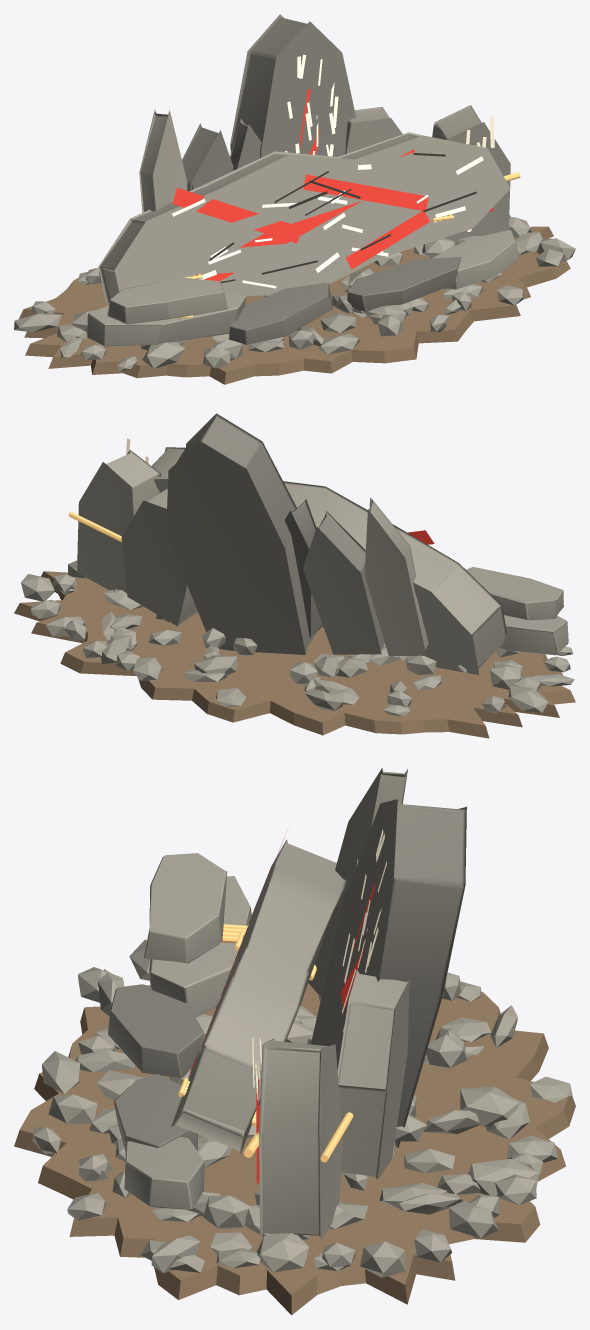
File: SM_GIA_BloodAxeCairnSlabCluster_A01_SculptedMidpolyV4.fbx
3 renders of one model, top to bottom at view 1: azimuth 30°, elevation 25°; view 2: azimuth 150°, elevation 25°; view 3: azimuth 270°, elevation 25°, orthographic. The views are drawn at different scales.
Parts seen in each view (by area): view 1: A1_Sculpted_MainPaintedFallenSlab_LOD0, A1_Sculpted_AshMudBase_LOD0, A1_Sculpted_RearTallBrokenSlab_LOD0, A1_Sculpted_LeftStackTopSlab_LOD0, A1_Sculpted_LeftStackLowSlab_LOD0, A1_Sculpted_FrontBrokenSupportStone0_LOD0, A1_Sculpted_FrontBrokenSupportStone1_LOD0, A1_Sculpted_BackLeftThinBlade_LOD0, A1_Sculpted_RightBoundUpright_LOD0, A1_Sculpted_RightFrontRubbleSlab_LOD0, A1_Sculpted_LeftRearShard_LOD0, A1_Sculpted_MainRedCrossB_LOD0 (+12 smaller); view 2: A1_Sculpted_AshMudBase_LOD0, A1_Sculpted_RearTallBrokenSlab_LOD0, A1_Sculpted_MainPaintedFallenSlab_LOD0, A1_Sculpted_LeftRearShard_LOD0, A1_Sculpted_RightBoundUpright_LOD0, A1_Sculpted_BackLeftThinBlade_LOD0, A1_Sculpted_BackRightShoulderStone_LOD0, A1_Sculpted_LeftStackTopSlab_LOD0, A1_Sculpted_LeftStackLowSlab_LOD0, A1_Sculpted_CenterNeedleShard_LOD0, A1_Sculpted_Rubble_04_LOD0, A1_Sculpted_Rubble_105_LOD0 (+13 smaller); view 3: A1_Sculpted_AshMudBase_LOD0, A1_Sculpted_RearTallBrokenSlab_LOD0, A1_Sculpted_MainPaintedFallenSlab_LOD0, A1_Sculpted_RightBoundUpright_LOD0, A1_Sculpted_BackRightShoulderStone_LOD0, A1_Sculpted_LeftStackTopSlab_LOD0, A1_Sculpted_FrontBrokenSupportStone0_LOD0, A1_Sculpted_LeftStackLowSlab_LOD0, A1_Sculpted_RightFrontRubbleSlab_LOD0, A1_Sculpted_FrontBrokenSupportStone1_LOD0, A1_Sculpted_BackLeftThinBlade_LOD0, A1_Sculpted_Rubble_11_LOD0 (+27 smaller).
Part boxes in pixels (x1,y1,x2,y2): A1_Sculpted_MainPaintedFallenSlab_LOD0: (98,132,510,305); A1_Sculpted_AshMudBase_LOD0: (19,226,570,384); A1_Sculpted_RearTallBrokenSlab_LOD0: (230,14,355,157); A1_Sculpted_LeftStackTopSlab_LOD0: (107,277,227,324); A1_Sculpted_LeftStackLowSlab_LOD0: (87,293,246,346); A1_Sculpted_FrontBrokenSupportStone0_LOD0: (228,282,332,344); A1_Sculpted_FrontBrokenSupportStone1_LOD0: (347,257,460,311); A1_Sculpted_BackLeftThinBlade_LOD0: (139,109,187,212); A1_Sculpted_RightBoundUpright_LOD0: (432,105,510,245); A1_Sculpted_RightFrontRubbleSlab_LOD0: (431,230,519,289); A1_Sculpted_LeftRearShard_LOD0: (182,123,233,191); A1_Sculpted_MainRedCrossB_LOD0: (303,174,428,210); A1_Sculpted_AshMudBase_LOD0: (14,571,575,738); A1_Sculpted_RearTallBrokenSlab_LOD0: (166,413,317,654); A1_Sculpted_MainPaintedFallenSlab_LOD0: (151,447,506,674); A1_Sculpted_LeftRearShard_LOD0: (303,511,384,654); A1_Sculpted_RightBoundUpright_LOD0: (77,450,160,593); A1_Sculpted_BackLeftThinBlade_LOD0: (364,497,428,655); A1_Sculpted_BackRightShoulderStone_LOD0: (121,488,198,626); A1_Sculpted_LeftStackTopSlab_LOD0: (466,567,563,620); A1_Sculpted_LeftStackLowSlab_LOD0: (499,615,568,655); A1_Sculpted_CenterNeedleShard_LOD0: (284,499,323,638); A1_Sculpted_Rubble_04_LOD0: (508,685,547,712); A1_Sculpted_Rubble_105_LOD0: (21,574,54,601); A1_Sculpted_AshMudBase_LOD0: (14,981,575,1315); A1_Sculpted_RearTallBrokenSlab_LOD0: (311,799,466,1147); A1_Sculpted_MainPaintedFallenSlab_LOD0: (171,839,347,1154); A1_Sculpted_RightBoundUpright_LOD0: (258,1038,342,1239); A1_Sculpted_BackRightShoulderStone_LOD0: (337,969,409,1179); A1_Sculpted_LeftStackTopSlab_LOD0: (144,853,227,963); A1_Sculpted_FrontBrokenSupportStone0_LOD0: (108,984,204,1078); A1_Sculpted_LeftStackLowSlab_LOD0: (149,876,251,1017); A1_Sculpted_RightFrontRubbleSlab_LOD0: (124,1136,204,1209); A1_Sculpted_FrontBrokenSupportStone1_LOD0: (113,1074,198,1152); A1_Sculpted_BackLeftThinBlade_LOD0: (308,768,407,997); A1_Sculpted_Rubble_11_LOD0: (460,1086,519,1126).
Bounding box in the file's own units: 21925 × 35286 × 15604.
